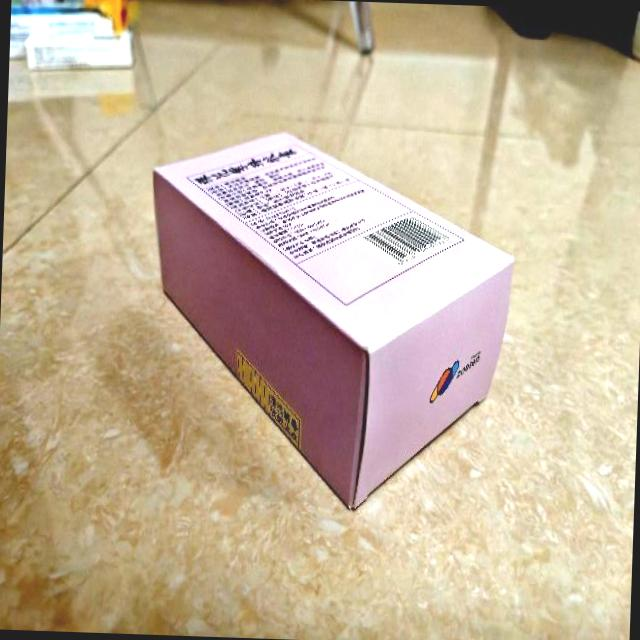box: (140, 124, 518, 514)
